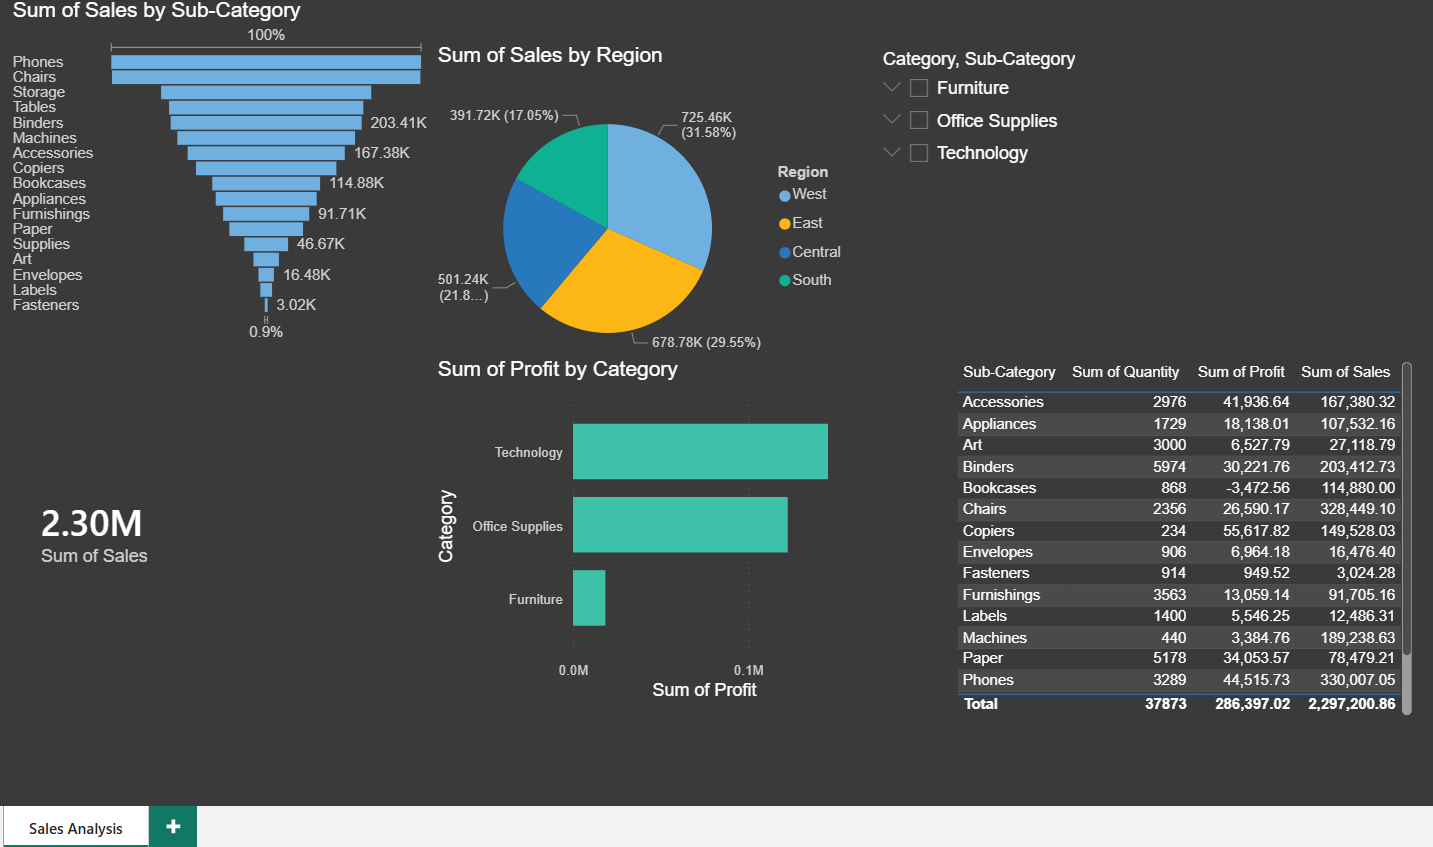

This screenshot's page, from the dashboard's own definition file:
{"tool":"powerbi","page":{"name":"Page 1","canvas":[1280,720],"ordinal":0},"visuals":[{"type":"funnel","fields":{"Category":["Superstore.Sub-Category"],"Y":["Sum(Superstore.Sales)"]},"box":[9.6,0,378.7,310.1],"z":0},{"type":"cardVisual","fields":{"Data":["Sum(Superstore.Sales)"]},"box":[10,320,379,310],"z":1},{"type":"pieChart","fields":{"Category":["Superstore.Region"],"Y":["Sum(Superstore.Sales)"]},"box":[388.3,39.8,378.7,310.1],"z":2},{"type":"barChart","fields":{"Category":["Superstore.Category"],"Y":["Sum(Superstore.Profit)"]},"box":[388.3,319.7,378.7,310.1],"z":3},{"type":"slicer","fields":{"Values":["Superstore.Category","Superstore.Sub-Category"]},"box":[776.7,39.8,489.9,279.9],"z":4},{"type":"tableEx","fields":{"Values":["Superstore.Sub-Category","Sum(Superstore.Quantity)","Sum(Superstore.Profit)","Sum(Superstore.Sales)"]},"box":[850.8,319.7,415.8,323.8],"z":5}]}

Visuals, with their boxes on the page's 1280x720 design canvas (x1, y1, x2, y2). These are canvas units, not pixel positions in the 1433x847 screenshot, which may show the page scaled, cropped or inside an application window:
funnel - Superstore.Sub-Category x Sum(Superstore.Sales): detection(10, 0, 388, 310)
cardVisual - Sum(Superstore.Sales): detection(10, 320, 389, 630)
pieChart - Superstore.Region x Sum(Superstore.Sales): detection(388, 40, 767, 350)
barChart - Superstore.Category x Sum(Superstore.Profit): detection(388, 320, 767, 630)
slicer - Superstore.Category x Superstore.Sub-Category: detection(777, 40, 1267, 320)
tableEx - Superstore.Sub-Category x Sum(Superstore.Quantity): detection(851, 320, 1267, 644)
